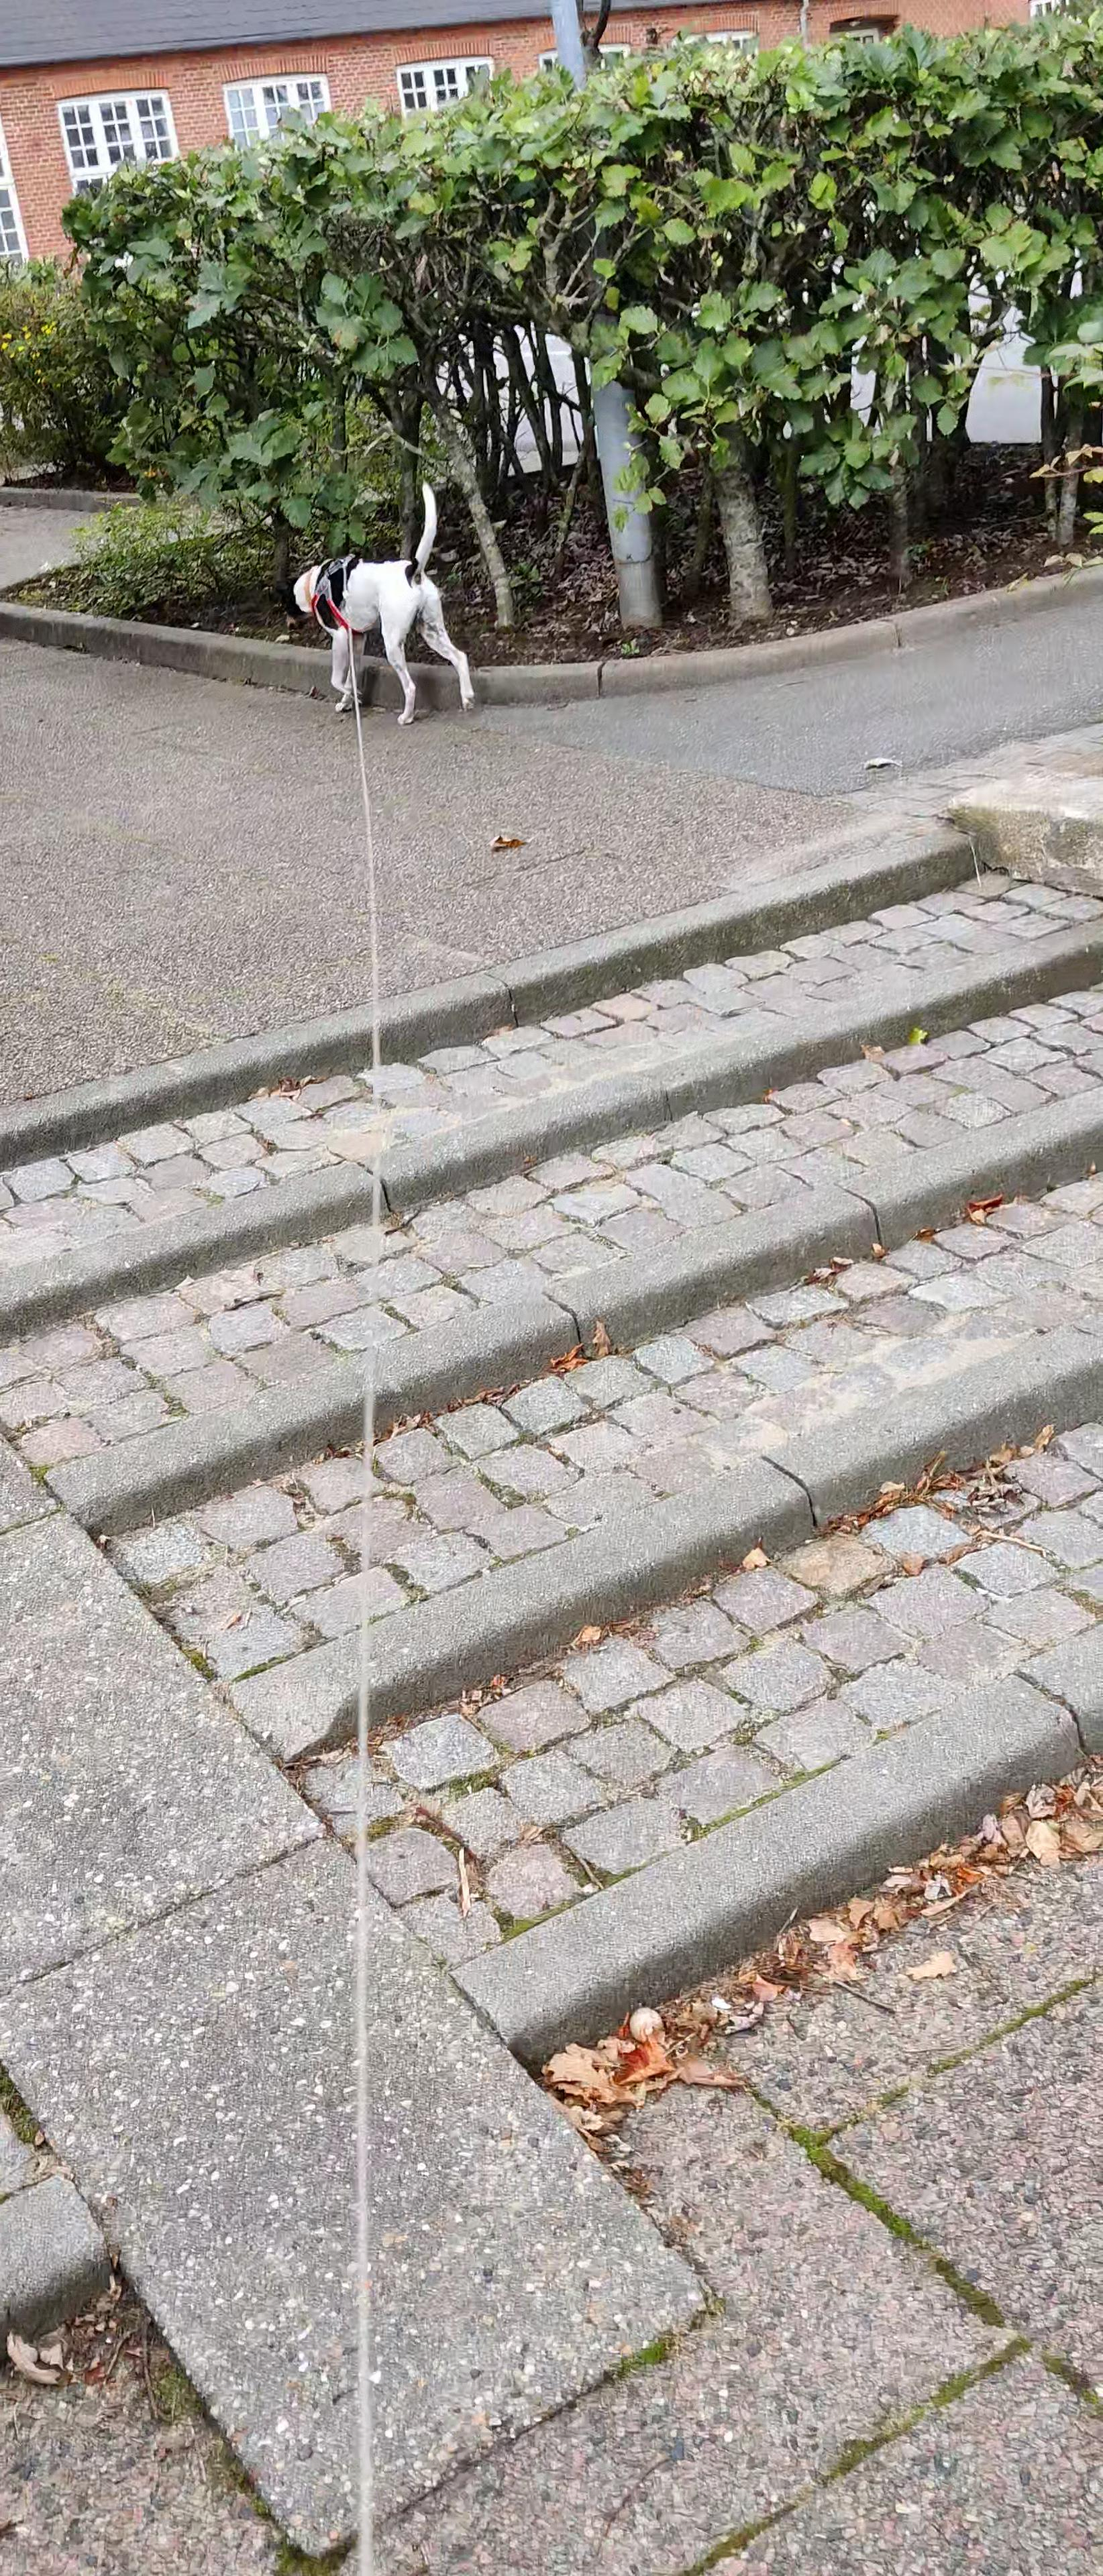Dog: (265, 478, 485, 726)
